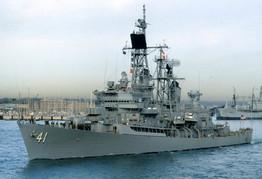warship: (13, 9, 253, 161)
